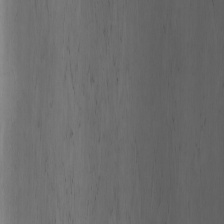silk_spot: (54, 34, 115, 133)
